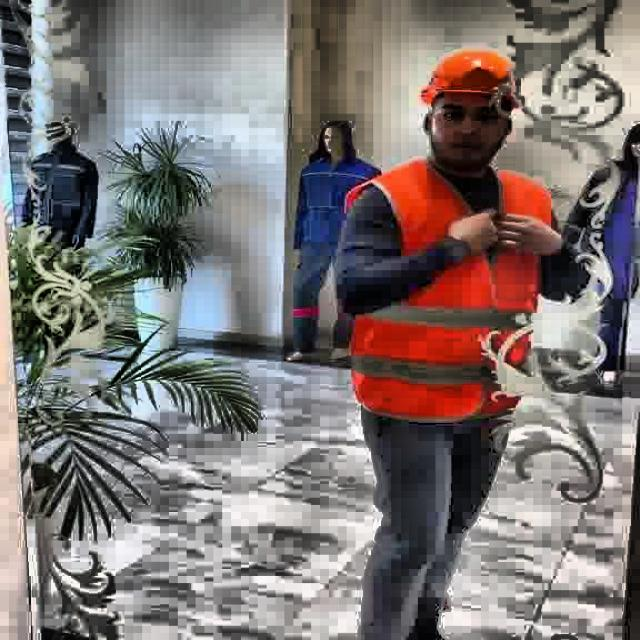safety_helmet: (419, 49, 524, 105)
safety_jacket: (343, 154, 555, 426)
